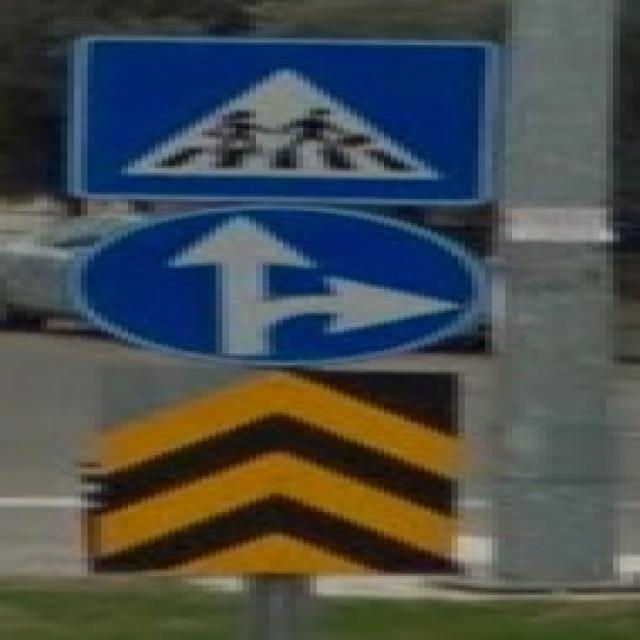Straight or Right: (82, 210, 486, 366)
